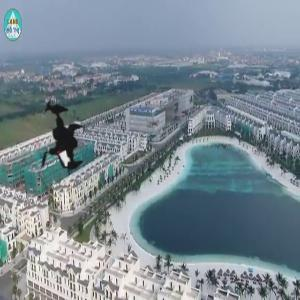drone: (2, 83, 114, 195)
